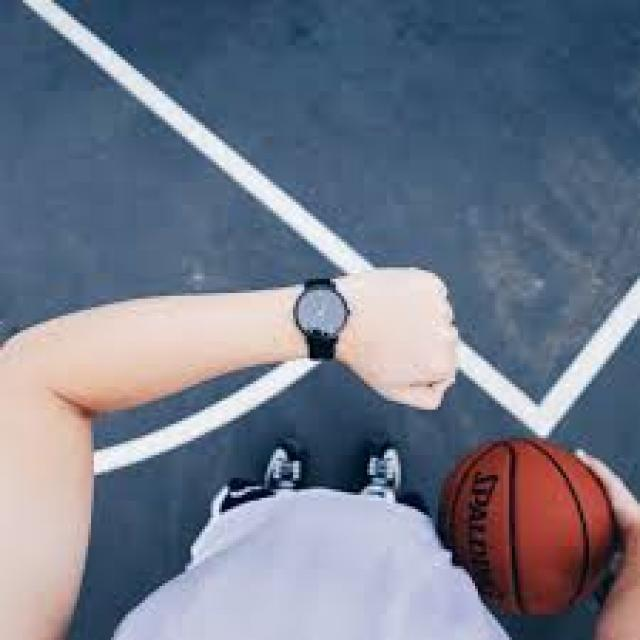Watch: (294, 273, 350, 364)
